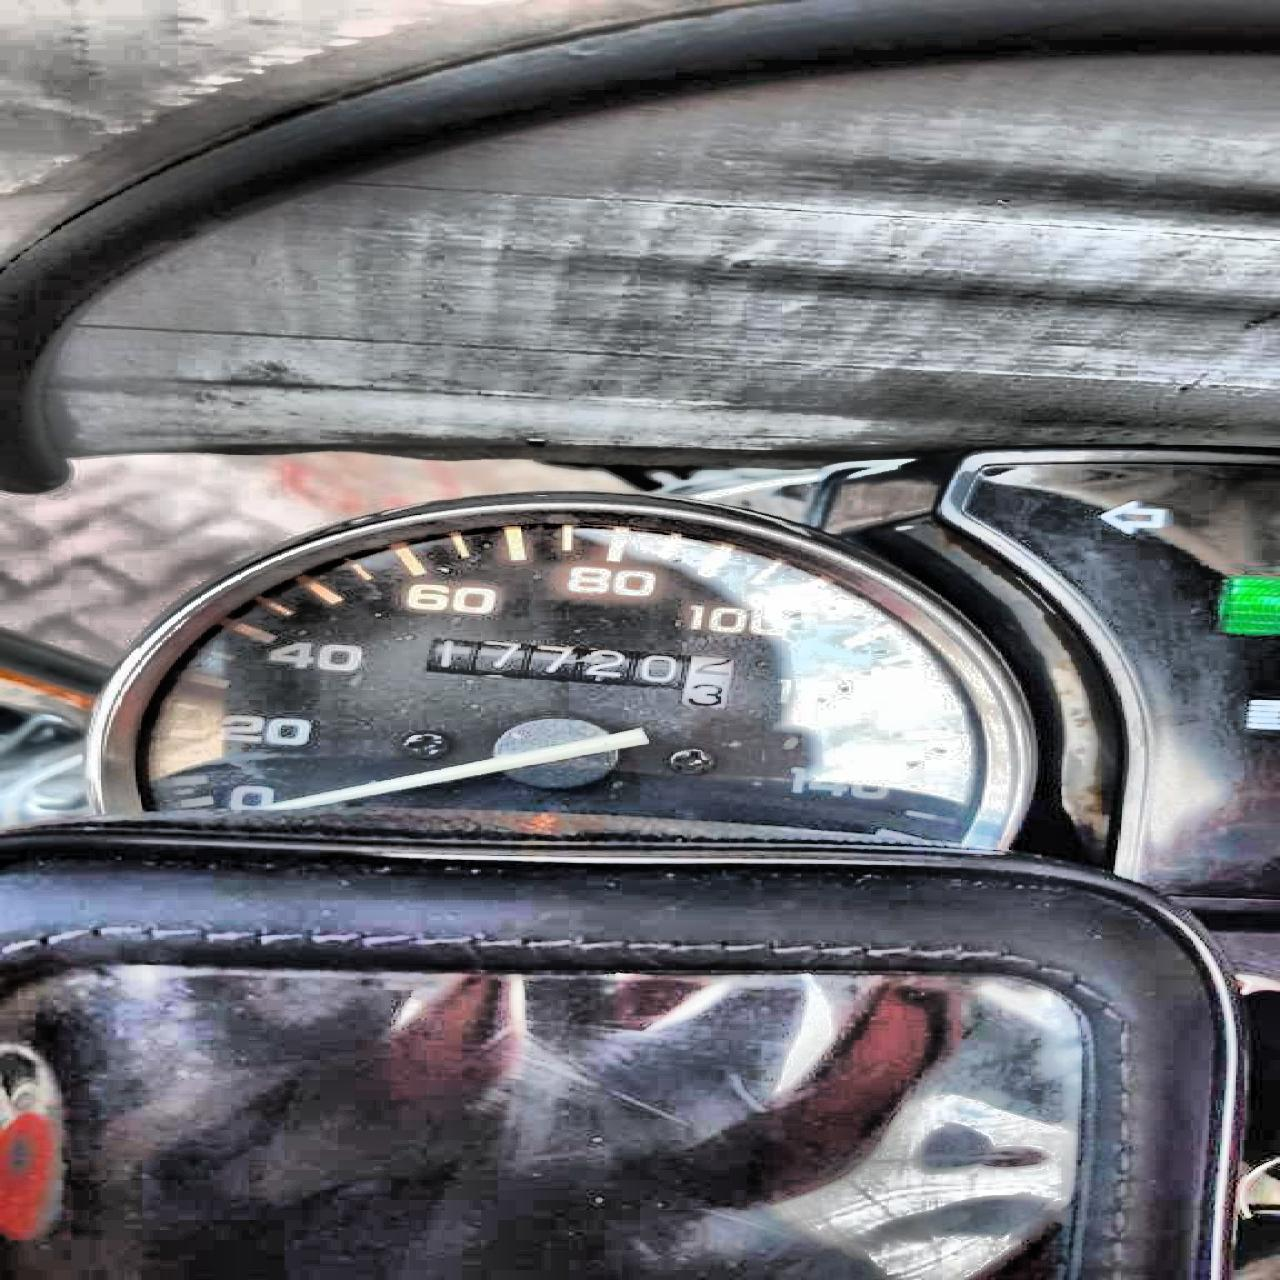0: (635, 654, 675, 682)
1: (434, 638, 458, 667)
2: (580, 647, 625, 678), (692, 655, 733, 676)
3: (682, 681, 724, 707)
7: (531, 644, 571, 674), (478, 639, 520, 667)
odometer: (414, 633, 742, 715)
